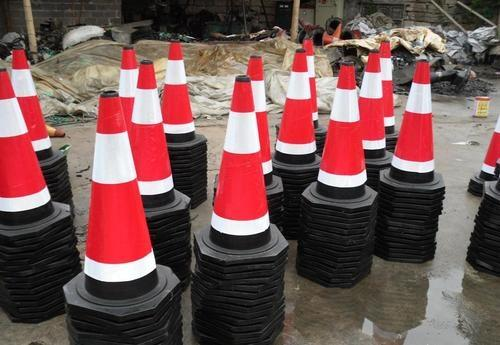cone_barrel: (76, 93, 162, 307), (204, 74, 281, 256), (309, 60, 370, 208), (126, 57, 178, 214), (387, 56, 442, 187), (9, 46, 59, 165), (271, 48, 318, 166), (244, 54, 280, 190), (159, 38, 198, 145), (357, 51, 389, 159), (468, 106, 498, 192), (378, 40, 397, 137)
